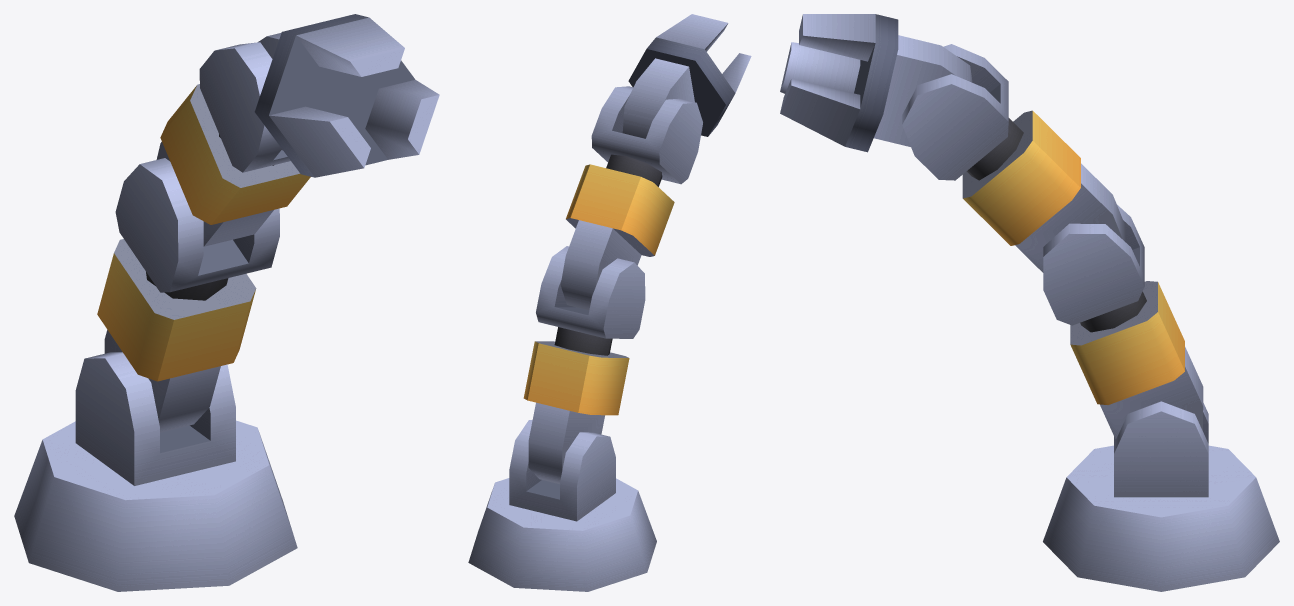
The model's file is braço robo.glb.
3 views of the same model, side by side, from view 1: azimuth 30°, elevation 25°; view 2: azimuth 150°, elevation 25°; view 3: azimuth 270°, elevation 25° (orthographic). The views are drawn at different scales.
Parts seen in each view (by area): view 1: robot-arm-b, element-f, element-b, element-a, element-c, element-d, element-e; view 2: robot-arm-b, element-d, element-b, element-f, element-a, element-e, element-c; view 3: robot-arm-b, element-f, element-d, element-b, element-e, element-c, element-a.
Part boxes in pixels (x1,y1,x2,y2): robot-arm-b: (14, 420, 297, 591); element-f: (254, 14, 439, 177); element-b: (97, 239, 256, 432); element-a: (75, 352, 235, 485); element-c: (115, 158, 279, 292); element-d: (156, 84, 310, 246); element-e: (199, 42, 290, 172); robot-arm-b: (468, 478, 656, 591); element-d: (560, 154, 674, 310); element-b: (523, 327, 629, 483); element-f: (622, 14, 751, 138); element-a: (509, 420, 615, 521); element-e: (591, 86, 702, 184); element-c: (536, 246, 645, 338); robot-arm-b: (1043, 445, 1279, 591); element-f: (780, 14, 972, 152); element-d: (962, 110, 1125, 272); element-b: (1070, 281, 1203, 438); element-e: (902, 44, 1008, 180); element-c: (1043, 204, 1144, 325); element-a: (1114, 401, 1208, 497).
Size of the model in its own units: 1 by 2.4 by 2.11.
Materials: 1 (1 with a texture image).
